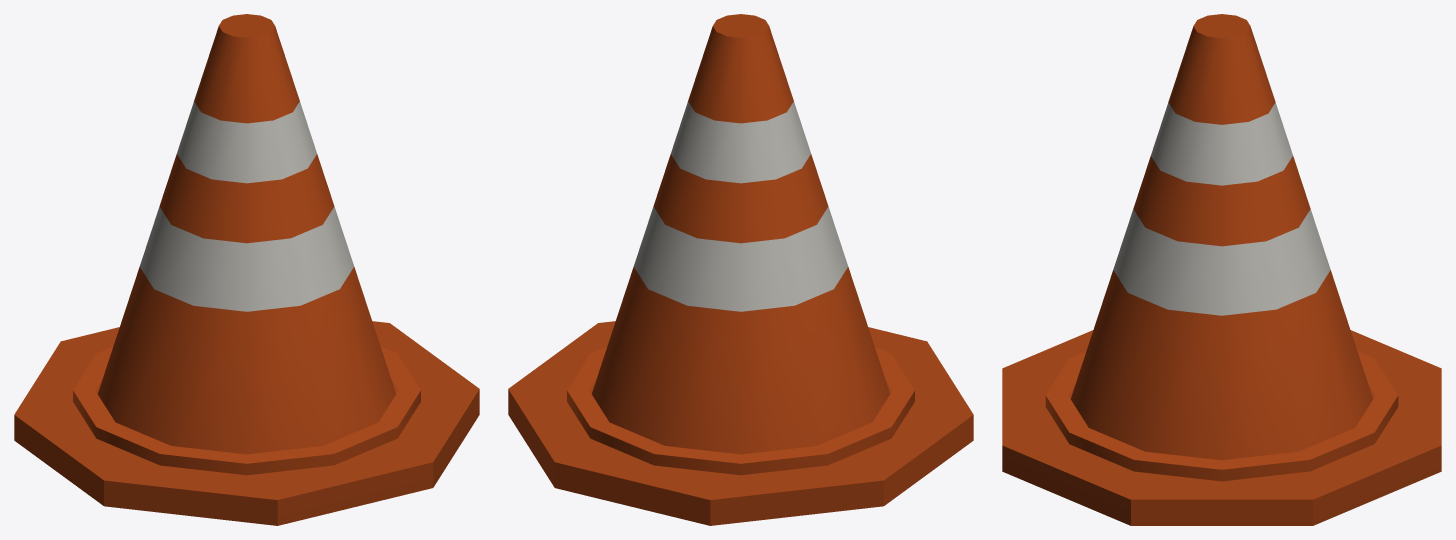
File: sign.cone.banded.glb
3 renders of one model, left to right at view 1: azimuth 30°, elevation 25°; view 2: azimuth 150°, elevation 25°; view 3: azimuth 270°, elevation 25°, orthographic.
Visible parts, largest first — view 1: sign_cone_banded; view 2: sign_cone_banded; view 3: sign_cone_banded.
Part boxes in pixels (x1,y1,x2,y2): sign_cone_banded: [14, 14, 479, 525]; sign_cone_banded: [508, 14, 973, 525]; sign_cone_banded: [1002, 14, 1441, 525].
Size of what is drawn, in the model's own units: 0.685 by 0.7 by 0.685.
